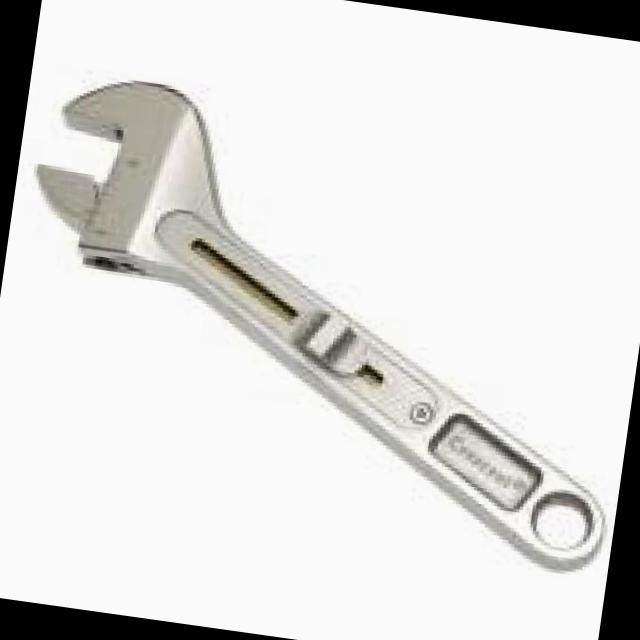wrench: (37, 82, 605, 570)
